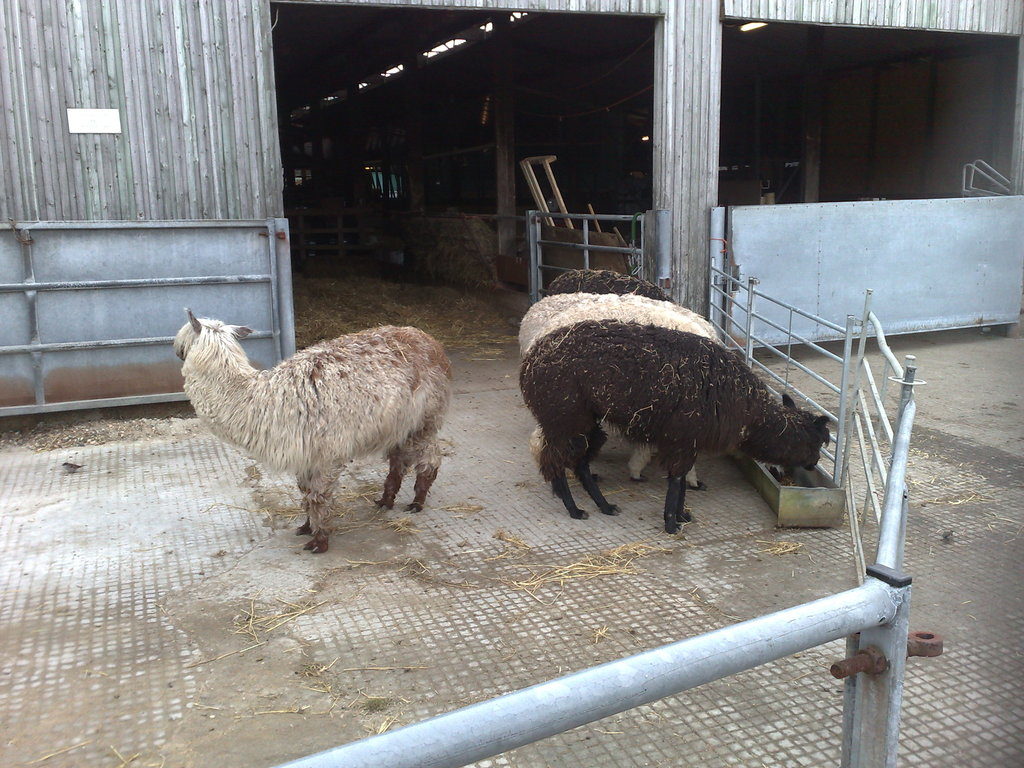sheep: (168, 309, 451, 555)
